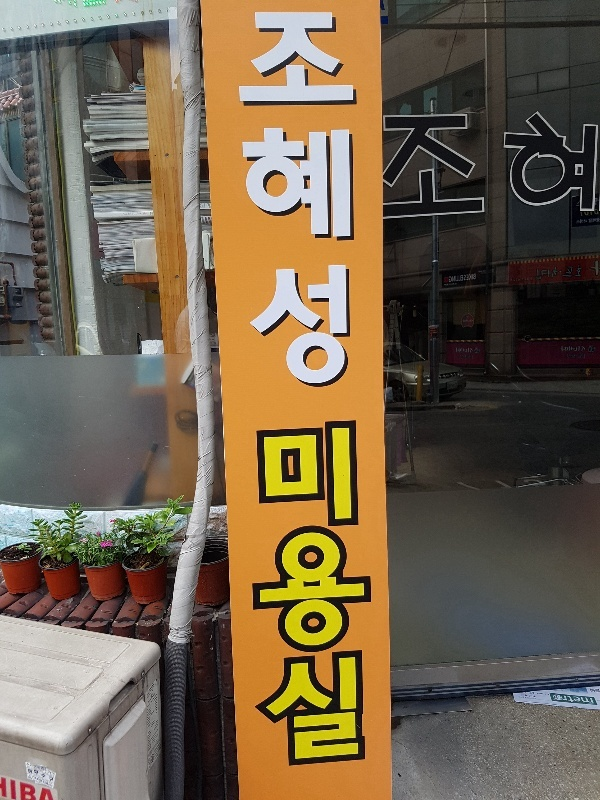text: (241, 5, 256, 395), (257, 5, 272, 395), (273, 5, 288, 395), (289, 5, 304, 395), (305, 5, 320, 395), (321, 5, 336, 395), (337, 5, 352, 395), (257, 416, 272, 781), (273, 416, 288, 781), (289, 416, 304, 781), (305, 416, 320, 781), (321, 416, 336, 781), (337, 416, 352, 781), (353, 416, 368, 781), (369, 416, 379, 781), (234, 5, 240, 395), (353, 5, 358, 395), (385, 107, 400, 231), (401, 107, 416, 231), (417, 107, 432, 231), (433, 107, 448, 231), (449, 107, 464, 231), (465, 107, 480, 231), (481, 107, 496, 231), (497, 107, 512, 231), (513, 107, 528, 231), (529, 107, 544, 231), (545, 107, 560, 231), (561, 107, 576, 231), (577, 107, 592, 231), (593, 107, 600, 231), (1, 775, 16, 800), (17, 775, 32, 800), (33, 775, 48, 800), (381, 107, 384, 231), (49, 775, 52, 800)
